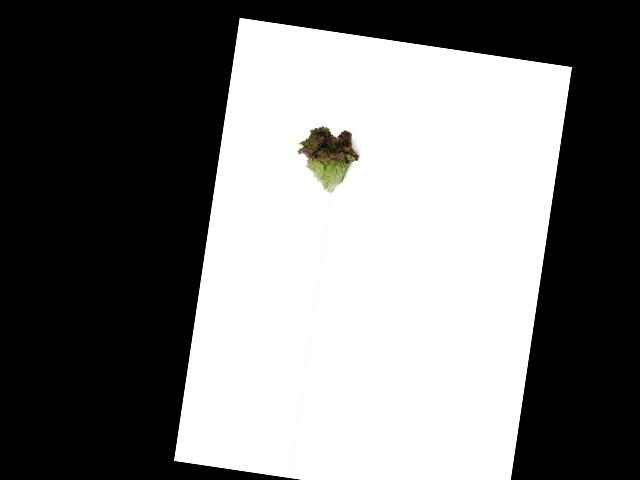lettuce: (289, 114, 369, 198)
